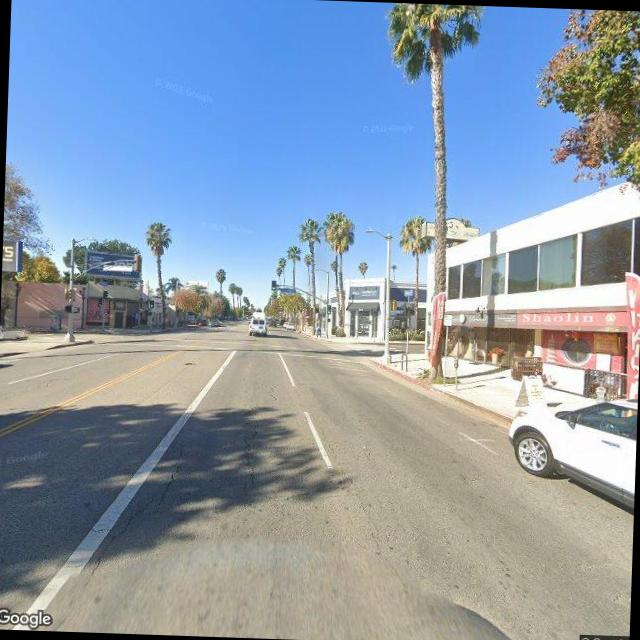pothole: (82, 441, 188, 582), (234, 381, 271, 496)
